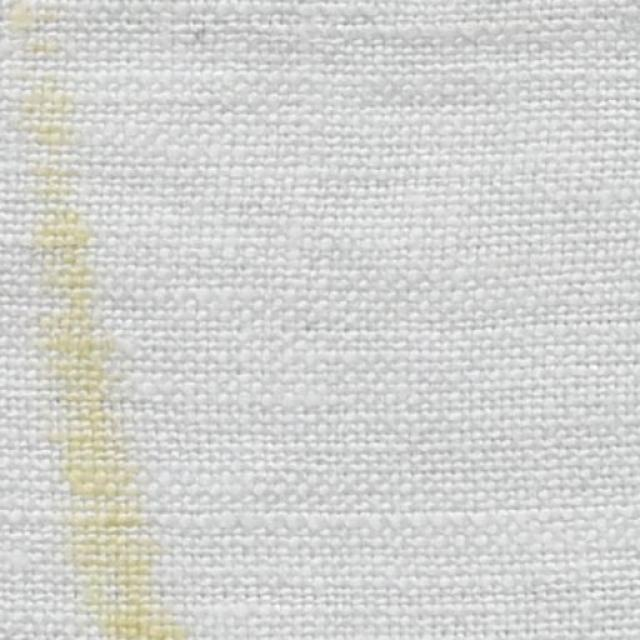Stain: (10, 0, 171, 639)
